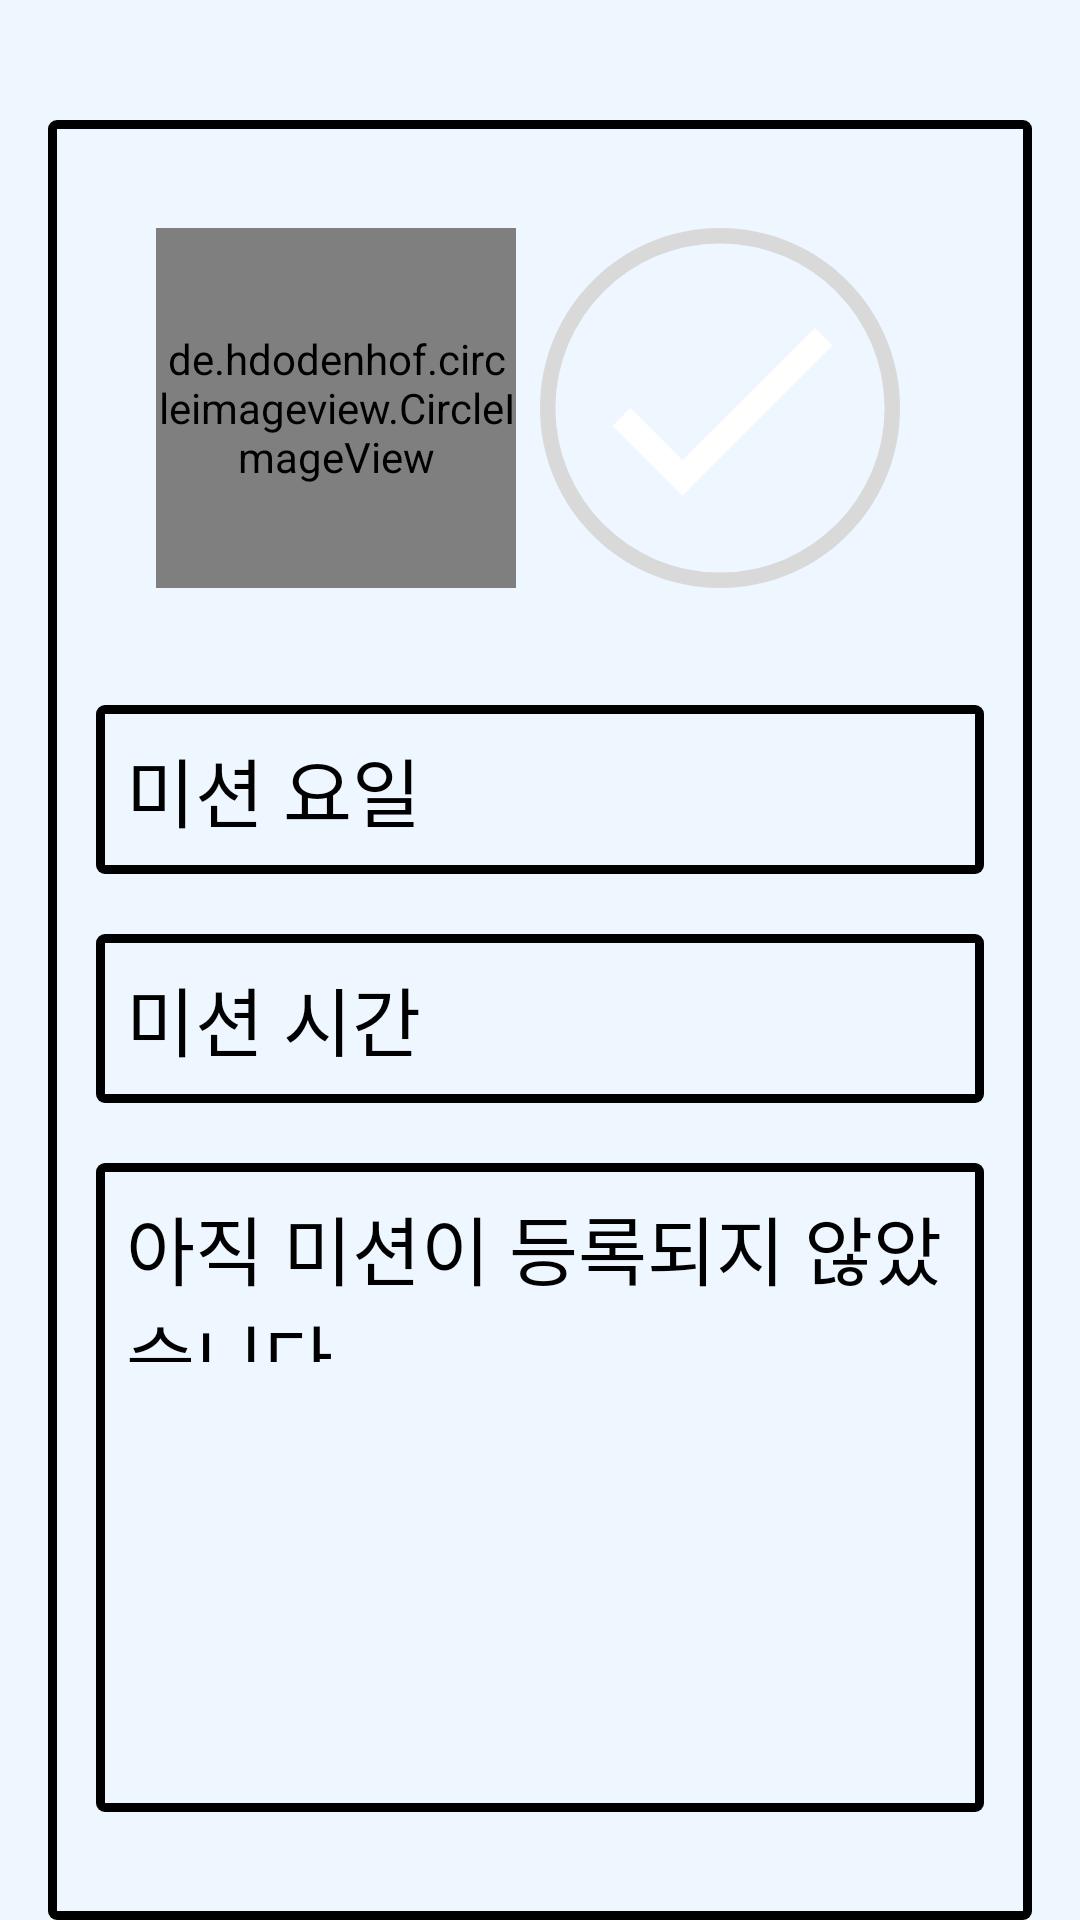

Screen size 1080px×1920px. Icon name, then its box in pixels as (x1, y1, x2, y2):
check: (540, 228, 900, 588)
